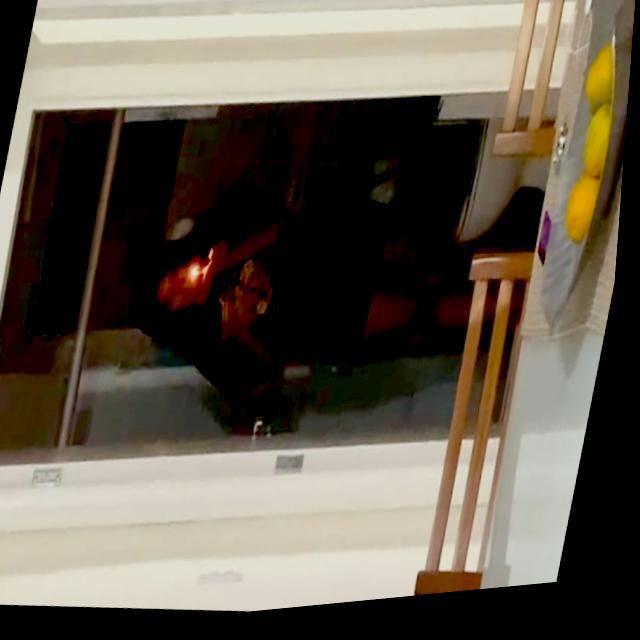helmet: (187, 267, 209, 288)
